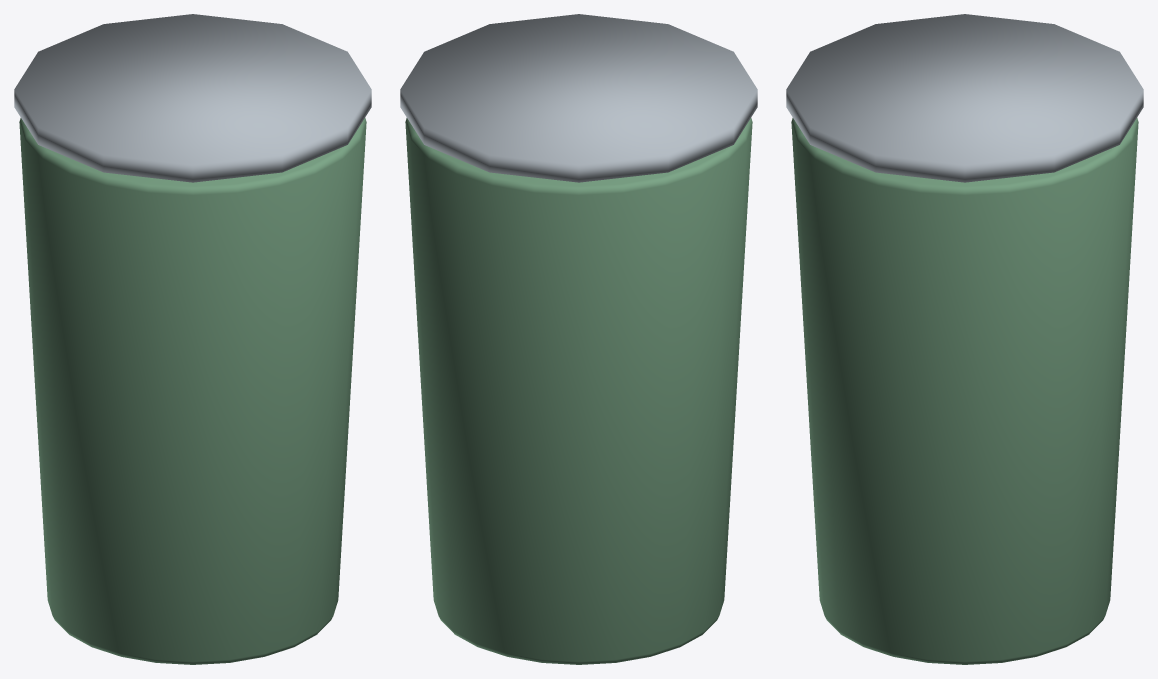
The model's file is atelier-recycling-bin.glb.
3 views of the same model, side by side, from view 1: azimuth 30°, elevation 25°; view 2: azimuth 150°, elevation 25°; view 3: azimuth 270°, elevation 25° (orthographic).
Parts seen in each view (by area): view 1: artGreen.019, steel.022; view 2: artGreen.019, steel.022; view 3: artGreen.019, steel.022.
Boxes of the visible parts, x1,y1,x2,y2 form: artGreen.019: (19, 118, 366, 664); steel.022: (14, 14, 371, 182); artGreen.019: (405, 118, 752, 664); steel.022: (400, 14, 757, 182); artGreen.019: (791, 118, 1138, 664); steel.022: (786, 14, 1143, 182).
Bounding box in the file's own units: 0.37 × 0.59 × 0.37.
